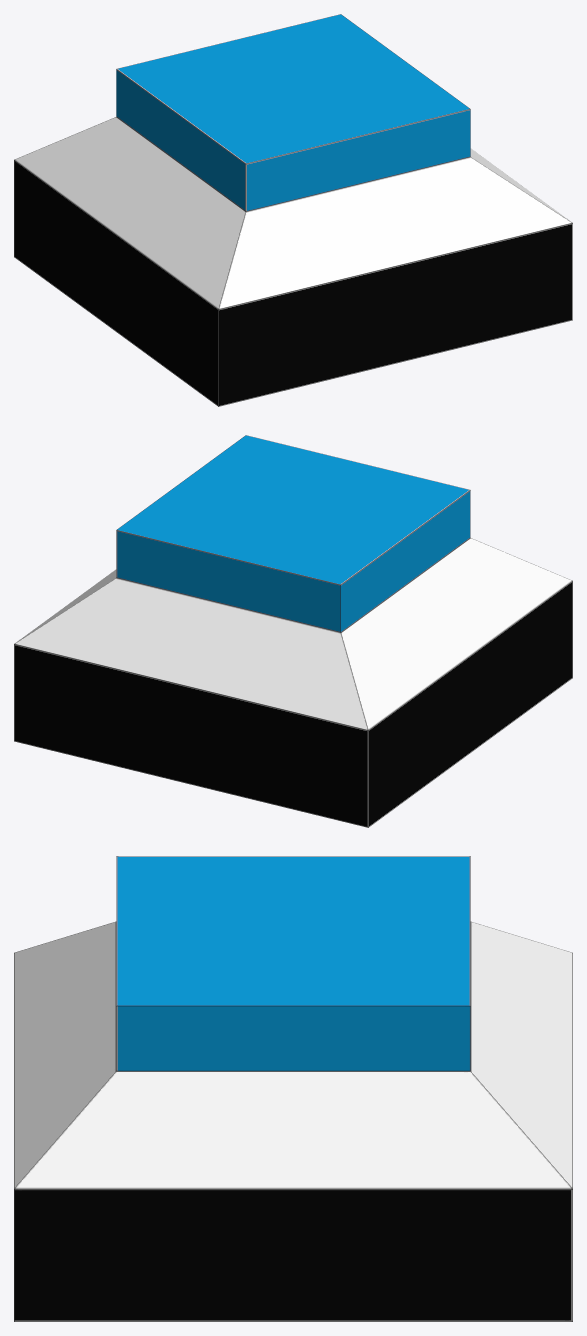
The model's file is scoreIndicator.obj.
3 views of the same model, one above another, from view 1: azimuth 30°, elevation 25°; view 2: azimuth 150°, elevation 25°; view 3: azimuth 270°, elevation 25° (orthographic). The views are drawn at different scales.
Visible parts, largest first — view 1: Cube; view 2: Cube; view 3: Cube.
Boxes of the visible parts, left/top/right/bottom form: Cube: left=14, top=14, right=572, bottom=406; Cube: left=14, top=435, right=572, bottom=827; Cube: left=14, top=856, right=572, bottom=1321.
Size of the model in its own units: 2 by 1.08 by 2.
